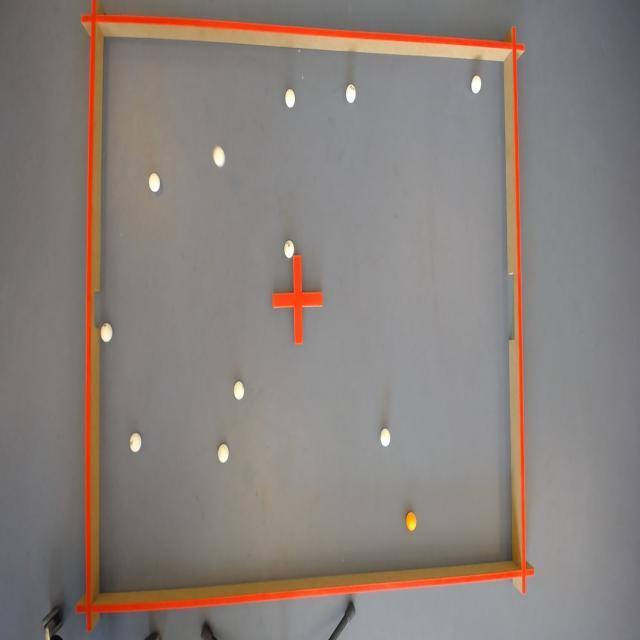orange: (404, 512, 417, 530)
white: (148, 170, 162, 192), (213, 147, 226, 169), (283, 87, 296, 109), (379, 428, 392, 449), (470, 75, 483, 96), (99, 324, 112, 344), (129, 431, 140, 454), (218, 442, 230, 462), (284, 238, 296, 258), (345, 84, 356, 105), (233, 378, 244, 399)
